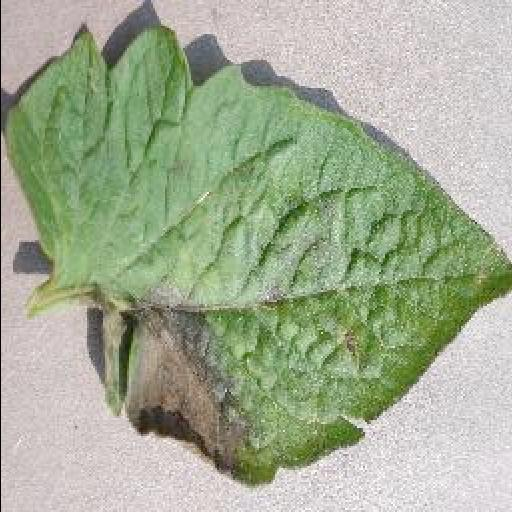disease_tomato: (0, 21, 512, 487)
